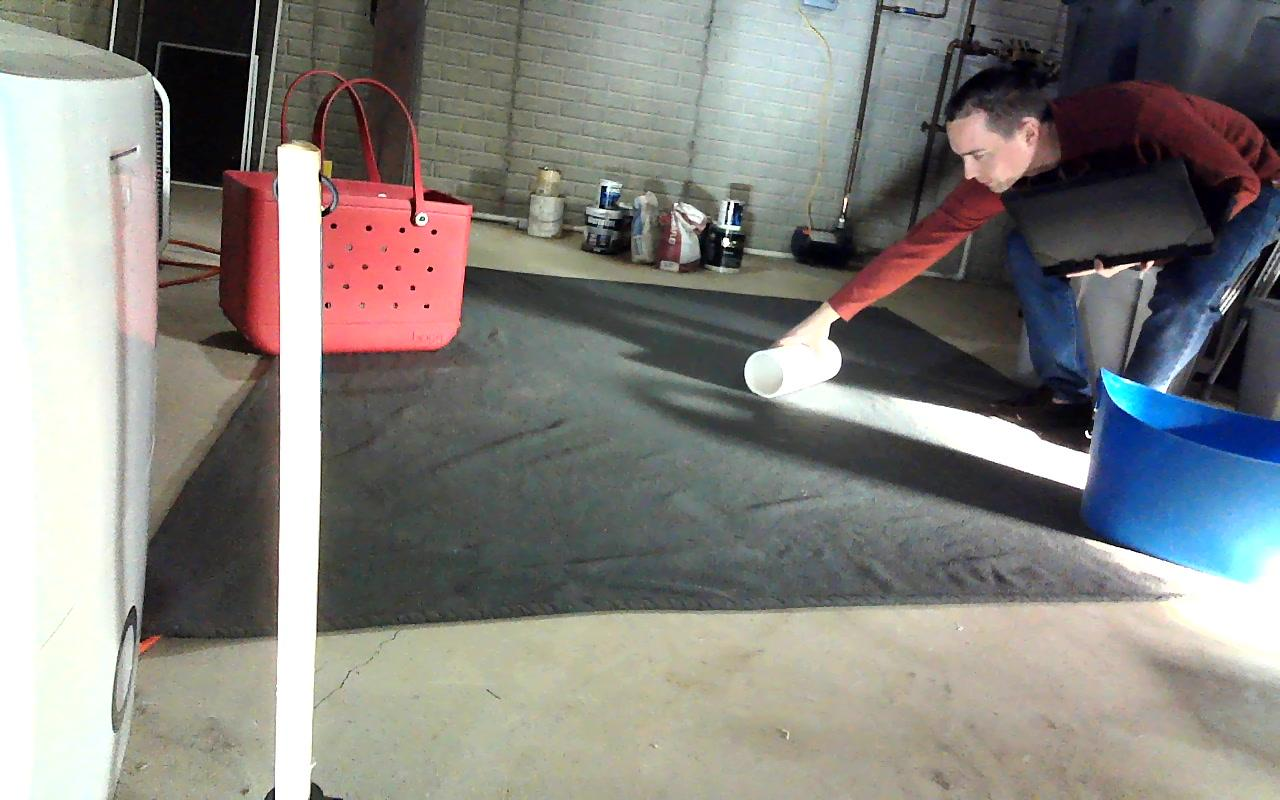coral: (745, 339, 840, 397)
